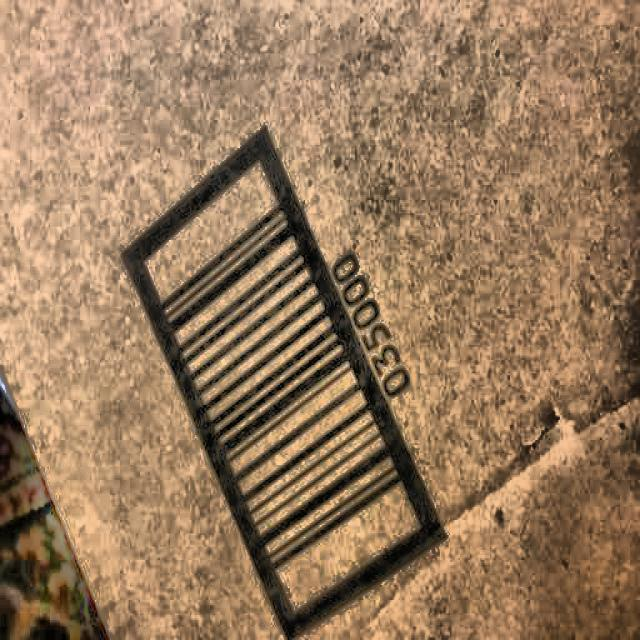cardboard: (7, 13, 615, 640)
